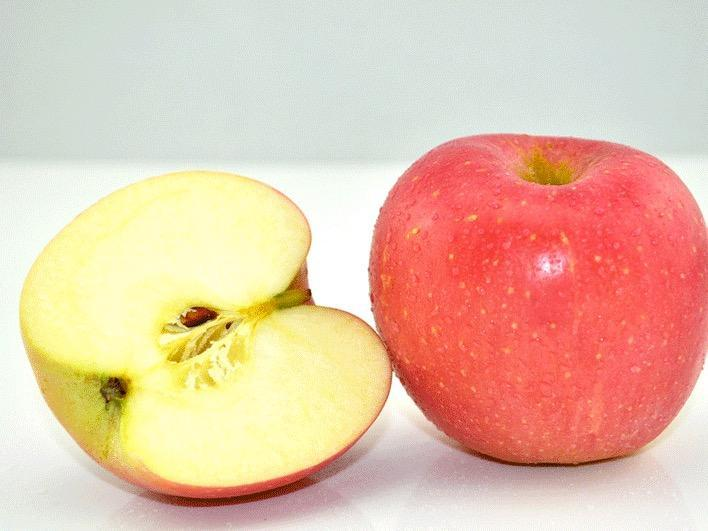apple: (368, 134, 708, 469)
